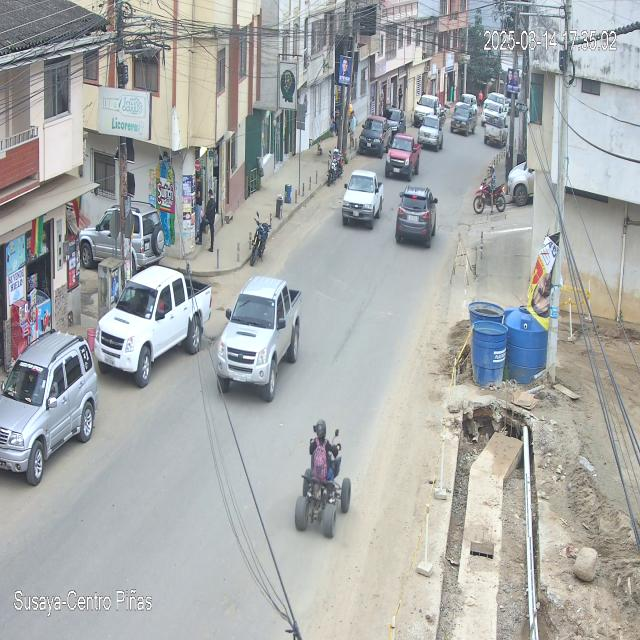CMT: (93, 266, 212, 386), (216, 277, 302, 404), (342, 170, 384, 230)
SUV: (395, 185, 438, 249)
